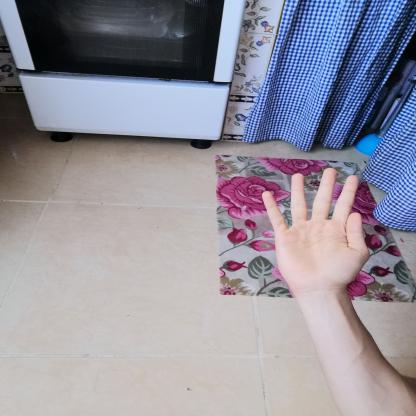SHEEN: (255, 160, 380, 296)
